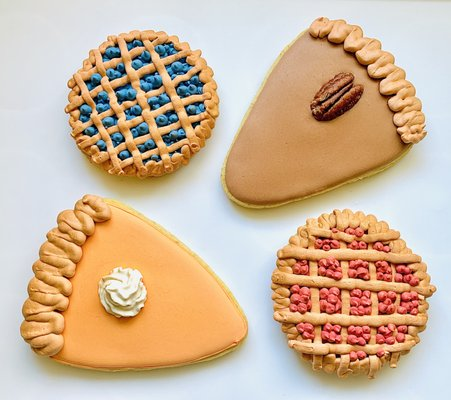curry: (2, 11, 450, 395)
salad: (37, 194, 247, 370), (64, 30, 220, 179)
